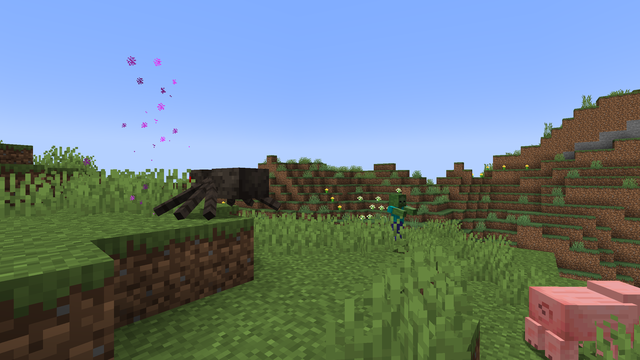araignees: (166, 161, 275, 221)
cochons: (539, 277, 633, 359)
zombies: (387, 195, 406, 241)
